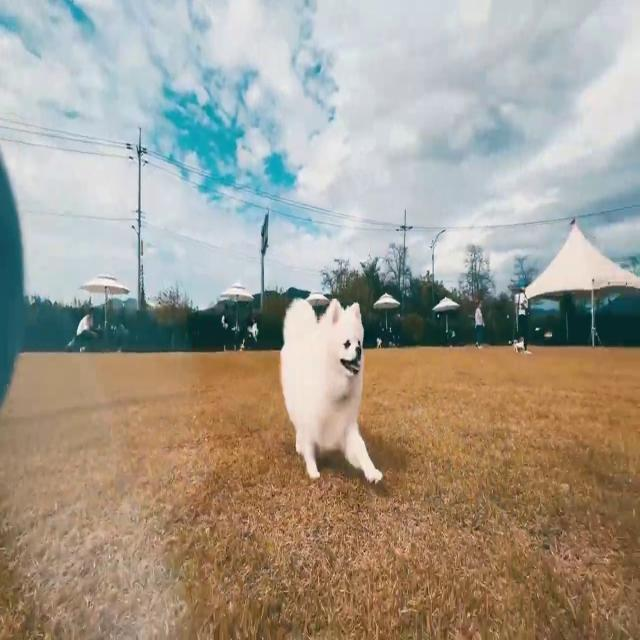Dog: (280, 297, 382, 486)
